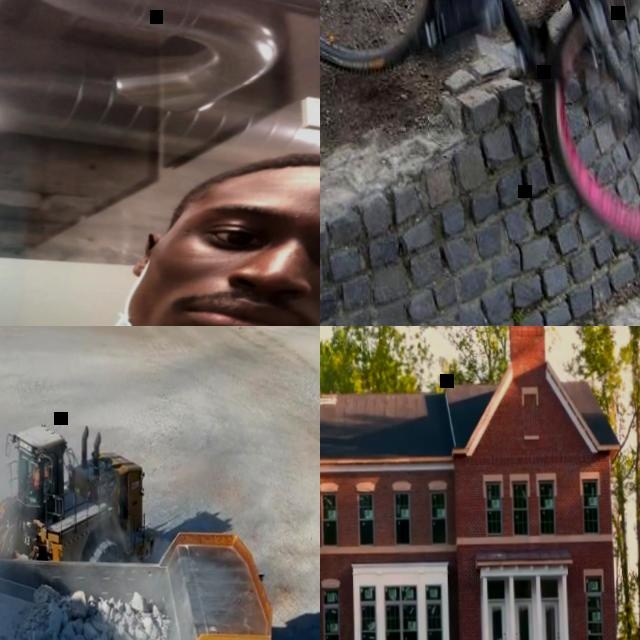NO-Hardhat: (180, 147, 320, 223)
NO-Mask: (129, 257, 320, 326)
Person: (0, 143, 320, 326)
machinery: (0, 418, 166, 640), (0, 527, 298, 640)
